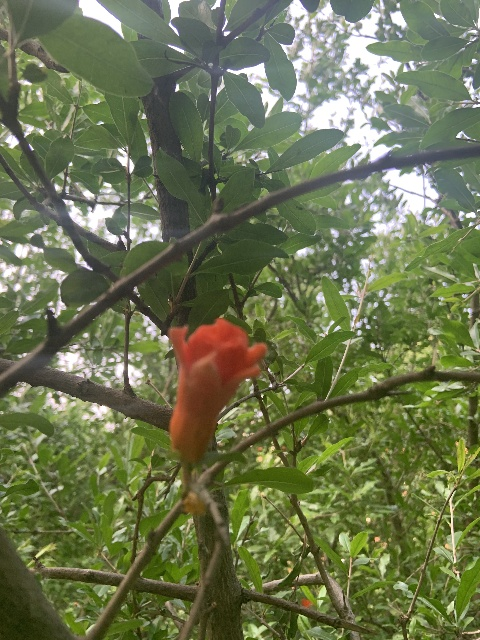flower: (167, 317, 266, 462)
